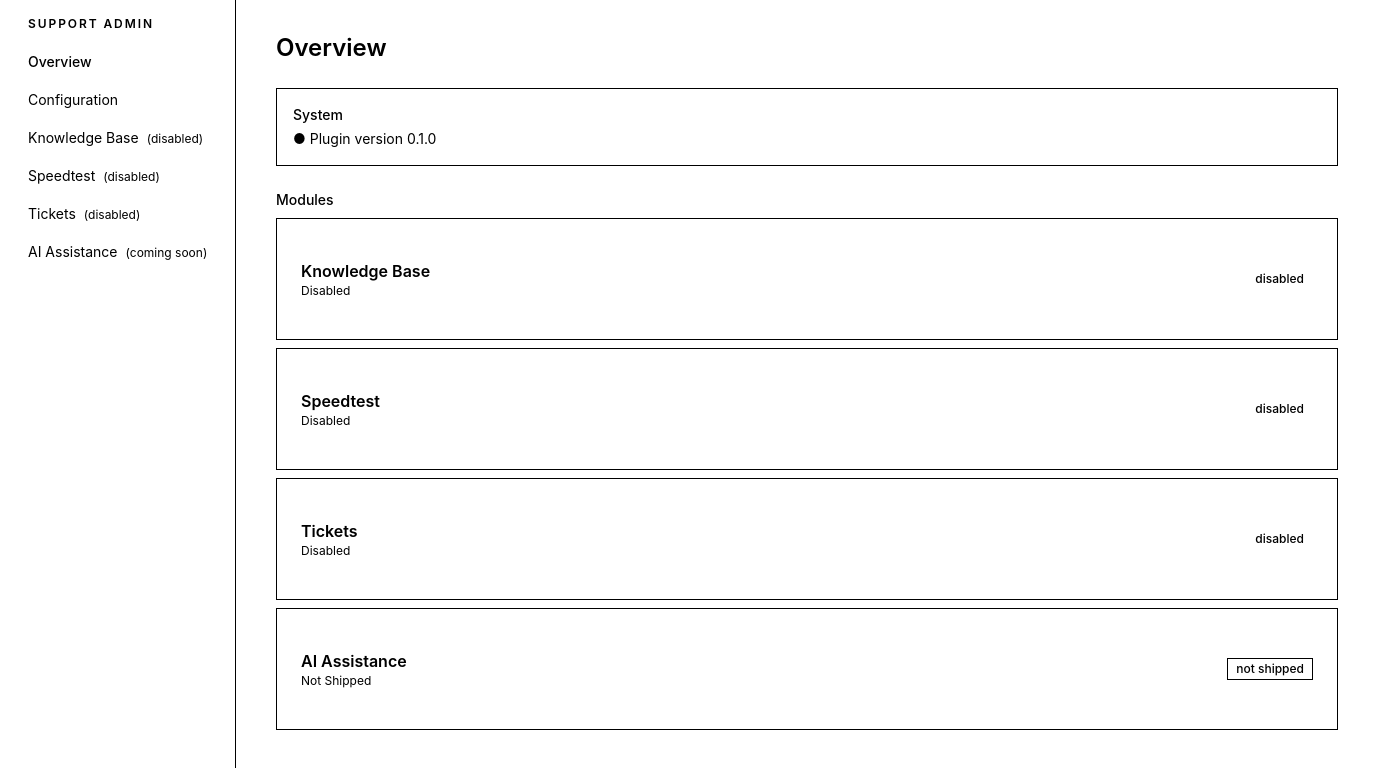
Test: AdminLayout › switches the rendered section and the ?section= URL when a sidebar entry is clicked
Check: the heading "Overview" is shown, box [276,33,386,62]
Click the button "Configuration".
click(124, 100)  # box [12,82,235,118]
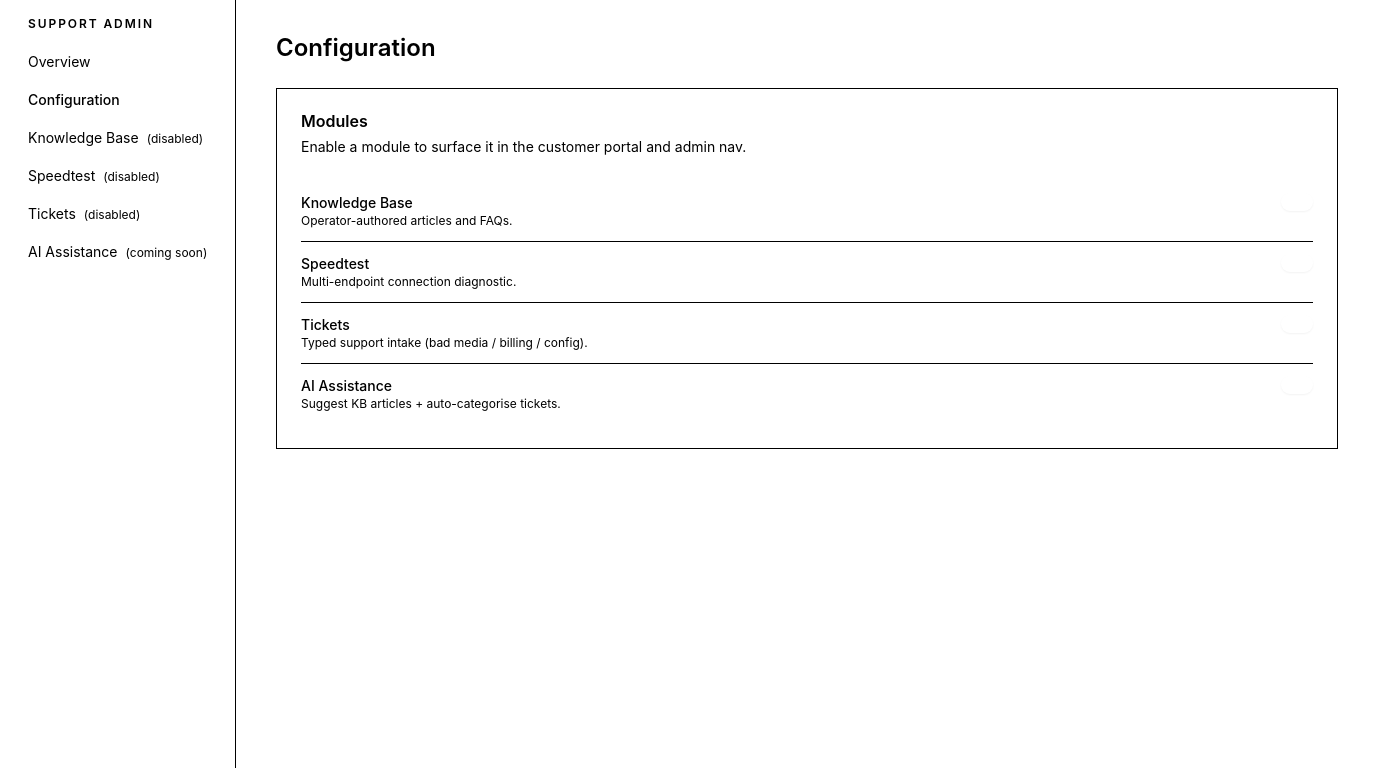
Check: the heading "Configuration" is shown, box [276,33,436,62]
Note: Clicking Overview clears the param again (overview is the default).
Click the button "Overview".
click(124, 62)  # box [12,44,235,80]
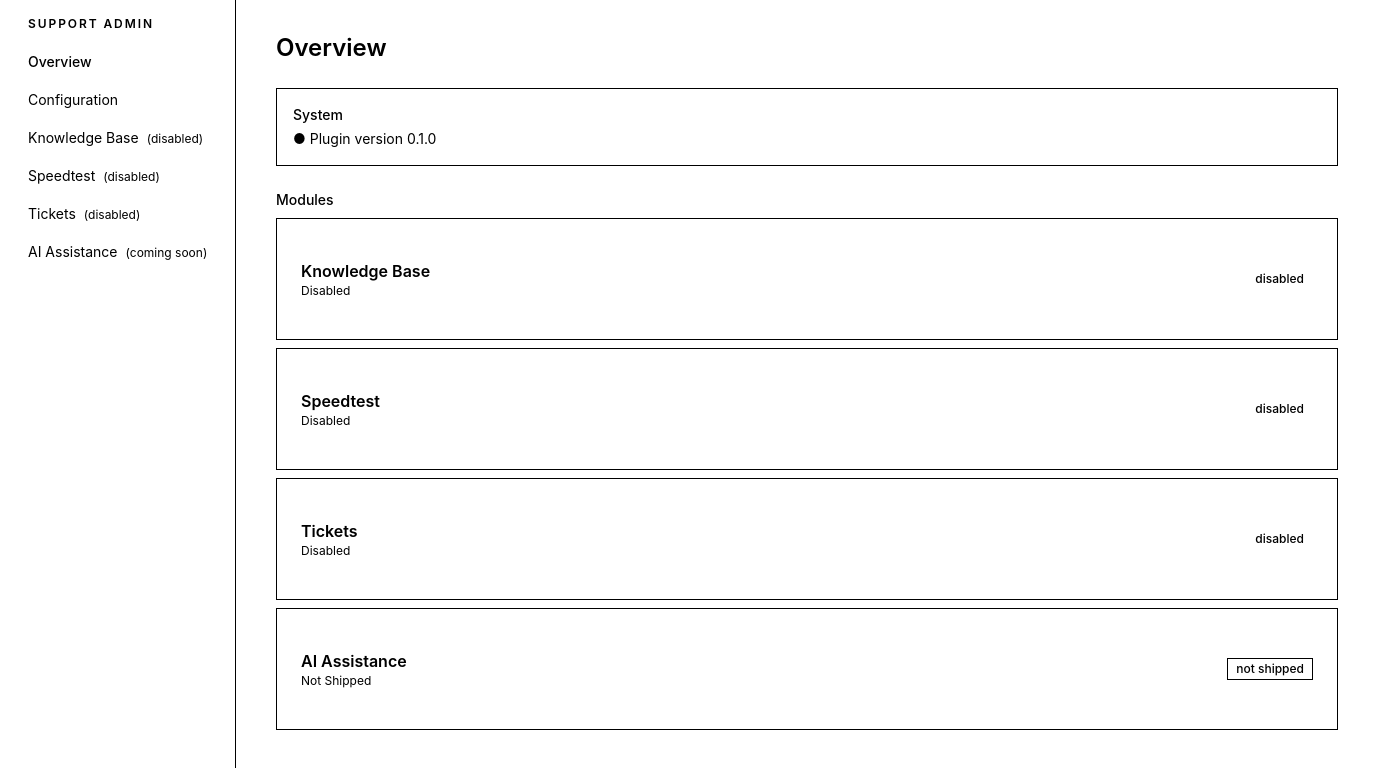
Check: the heading "Overview" is shown, box [276,33,386,62]
